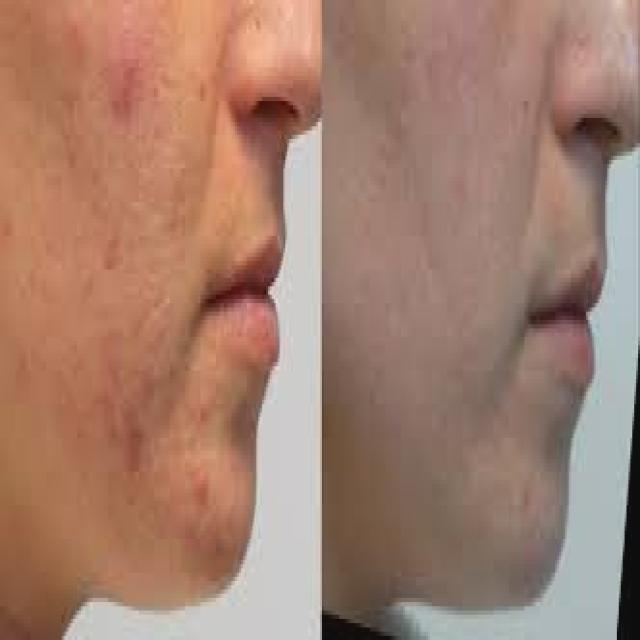Rosacea: (20, 21, 168, 476)
